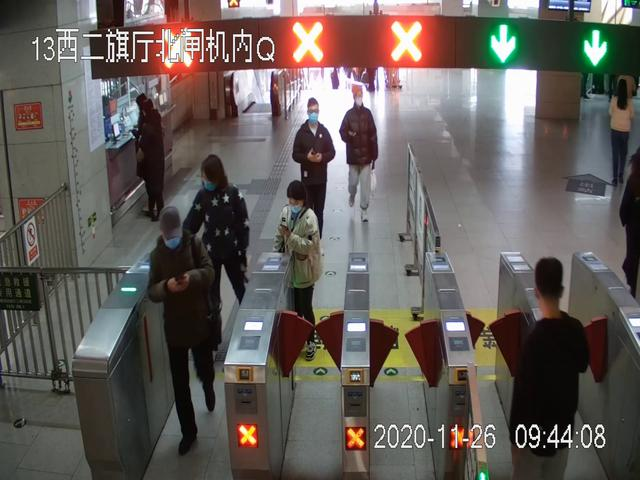person: (151, 205, 221, 455), (514, 259, 590, 480), (183, 154, 249, 349), (277, 181, 323, 360), (292, 97, 335, 251), (339, 84, 384, 220), (129, 92, 167, 220), (607, 79, 632, 185)
